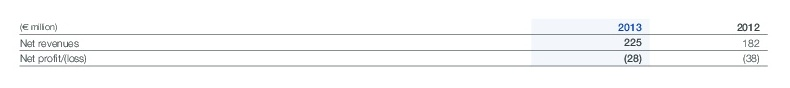table: (0, 0, 790, 88)
